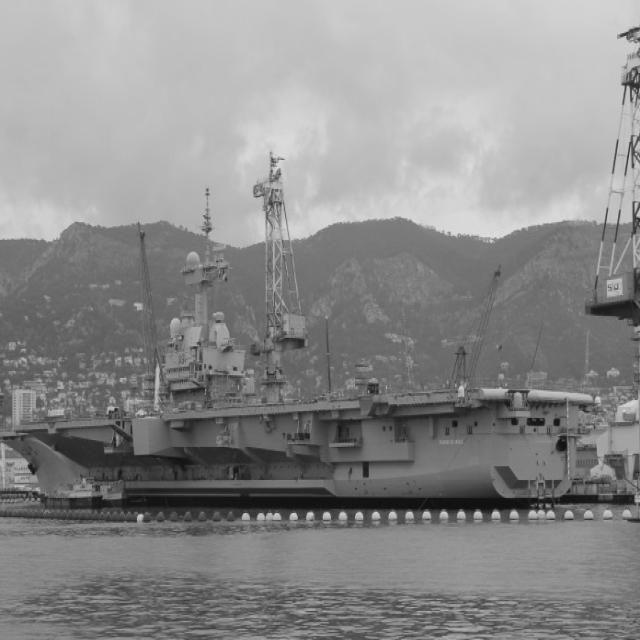Portanaves: (1, 192, 590, 514)
